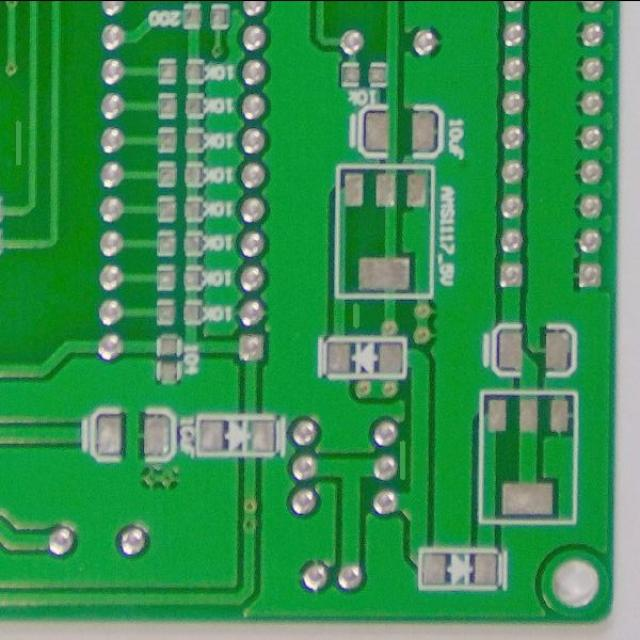Spurious_Cooper: (10, 114, 26, 171), (394, 435, 410, 482), (349, 300, 365, 332)
